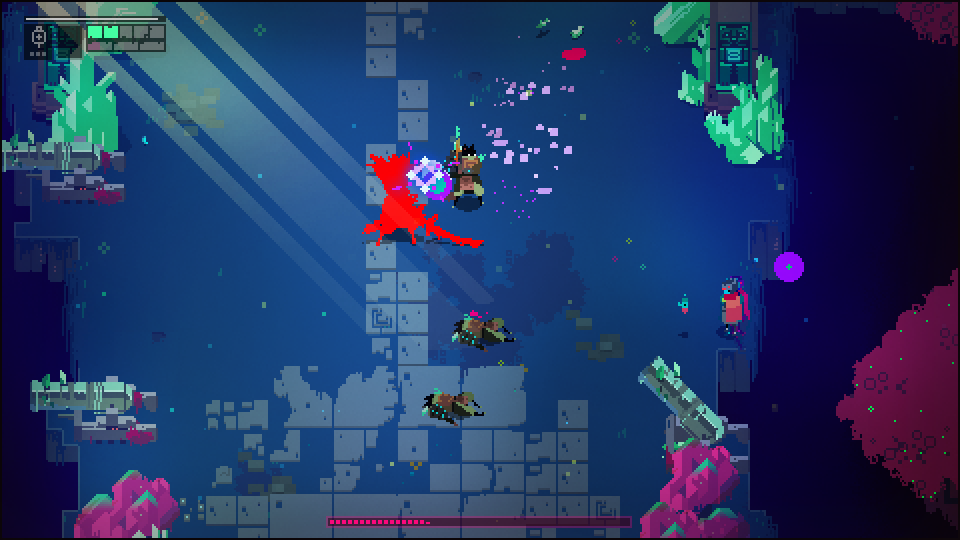hanged_man: (363, 152, 470, 253)
hanged_shot: (424, 166, 453, 207), (772, 247, 803, 285)
player: (717, 272, 752, 338)
